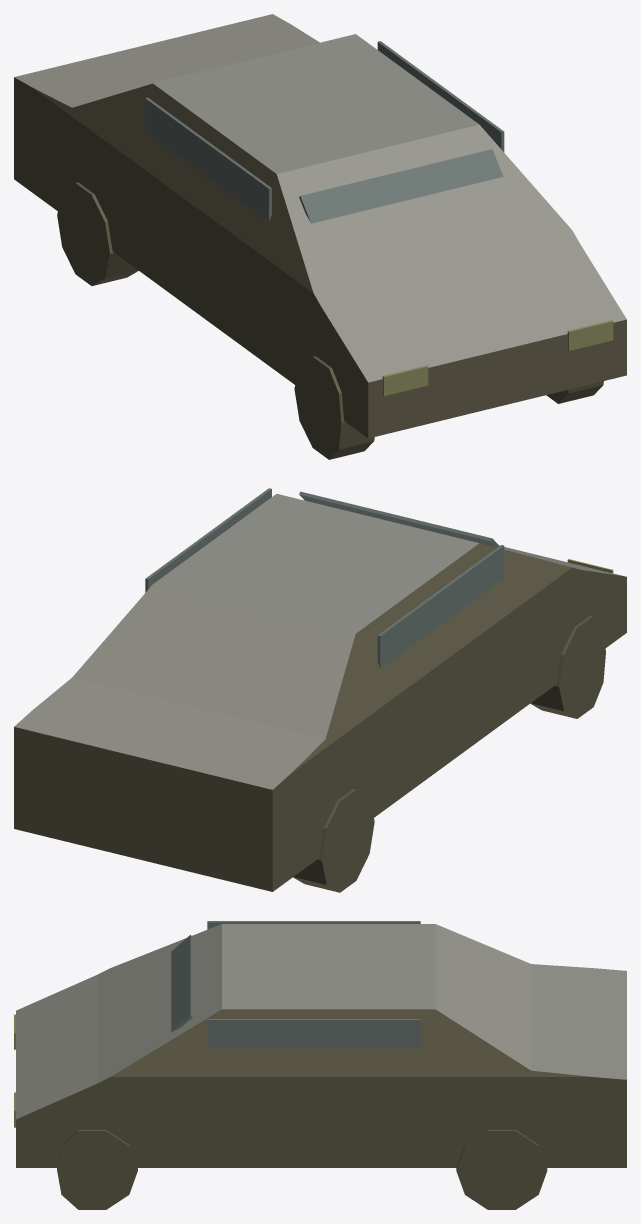
Rendered from SM_CocheCivil_Berlina_v3_LOD0.fbx.
The picture shows the model from 3 angles, top to bottom: view 1: azimuth 30°, elevation 25°; view 2: azimuth 150°, elevation 25°; view 3: azimuth 270°, elevation 25°; orthographic projection. The views are drawn at different scales.
Parts seen in each view (by area): view 1: SM_coche_civil_v8_LOD0; view 2: SM_coche_civil_v8_LOD0; view 3: SM_coche_civil_v8_LOD0.
Part boxes in pixels (x1=…): SM_coche_civil_v8_LOD0: x1=14, y1=14, x2=626, y2=459; SM_coche_civil_v8_LOD0: x1=14, y1=488, x2=626, y2=892; SM_coche_civil_v8_LOD0: x1=14, y1=921, x2=626, y2=1209.
Size of the model in its own units: 1.79 by 1.4 by 4.16.
